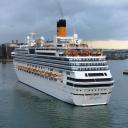cruises: (11, 16, 117, 111)
